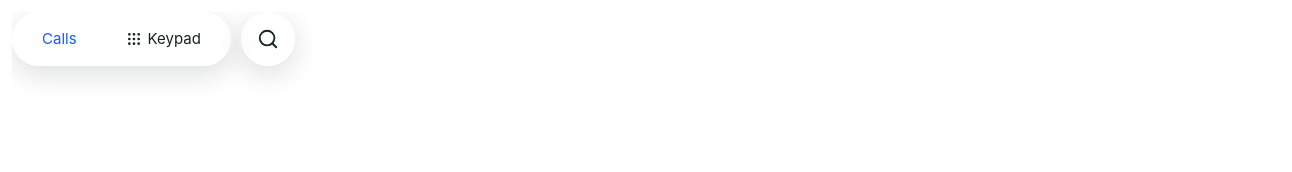
Test: liquid TabBar › folds the tabs away from focus and assistive technology while searching
Click the button named "Search" at (268, 39), box [242,13,294,65]
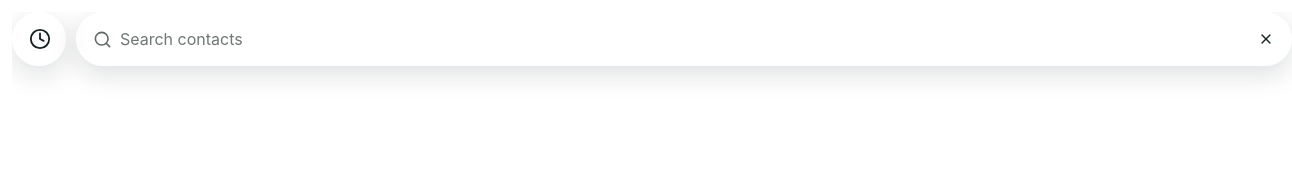
Check: the tab is gone
Check: the button named "Back to Calls" is shown, box [13,13,66,65]
